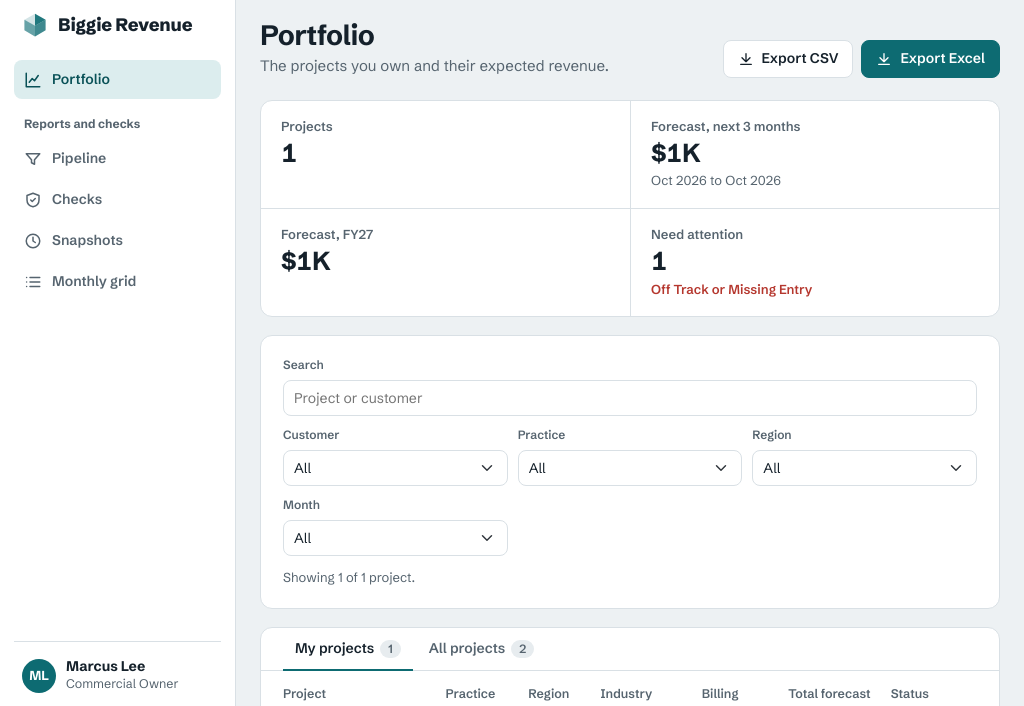
Portfolio (Commercial Owner) › offers all projects read-only and never implies the owner can edit them
The width and height of the screenshot is (1024, 706).
Step 1. Click the tab "All projects 2" → (482,649), box [417,628,546,671]
(page scrolled)
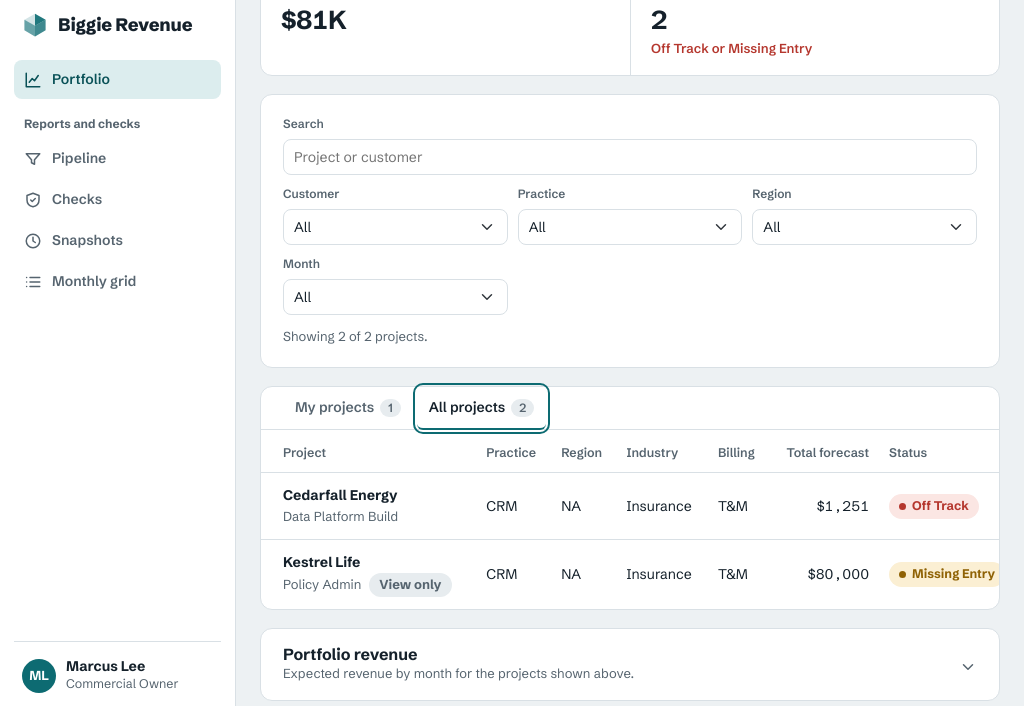
Check: the text "View only" is shown, box [369,573,452,597]
